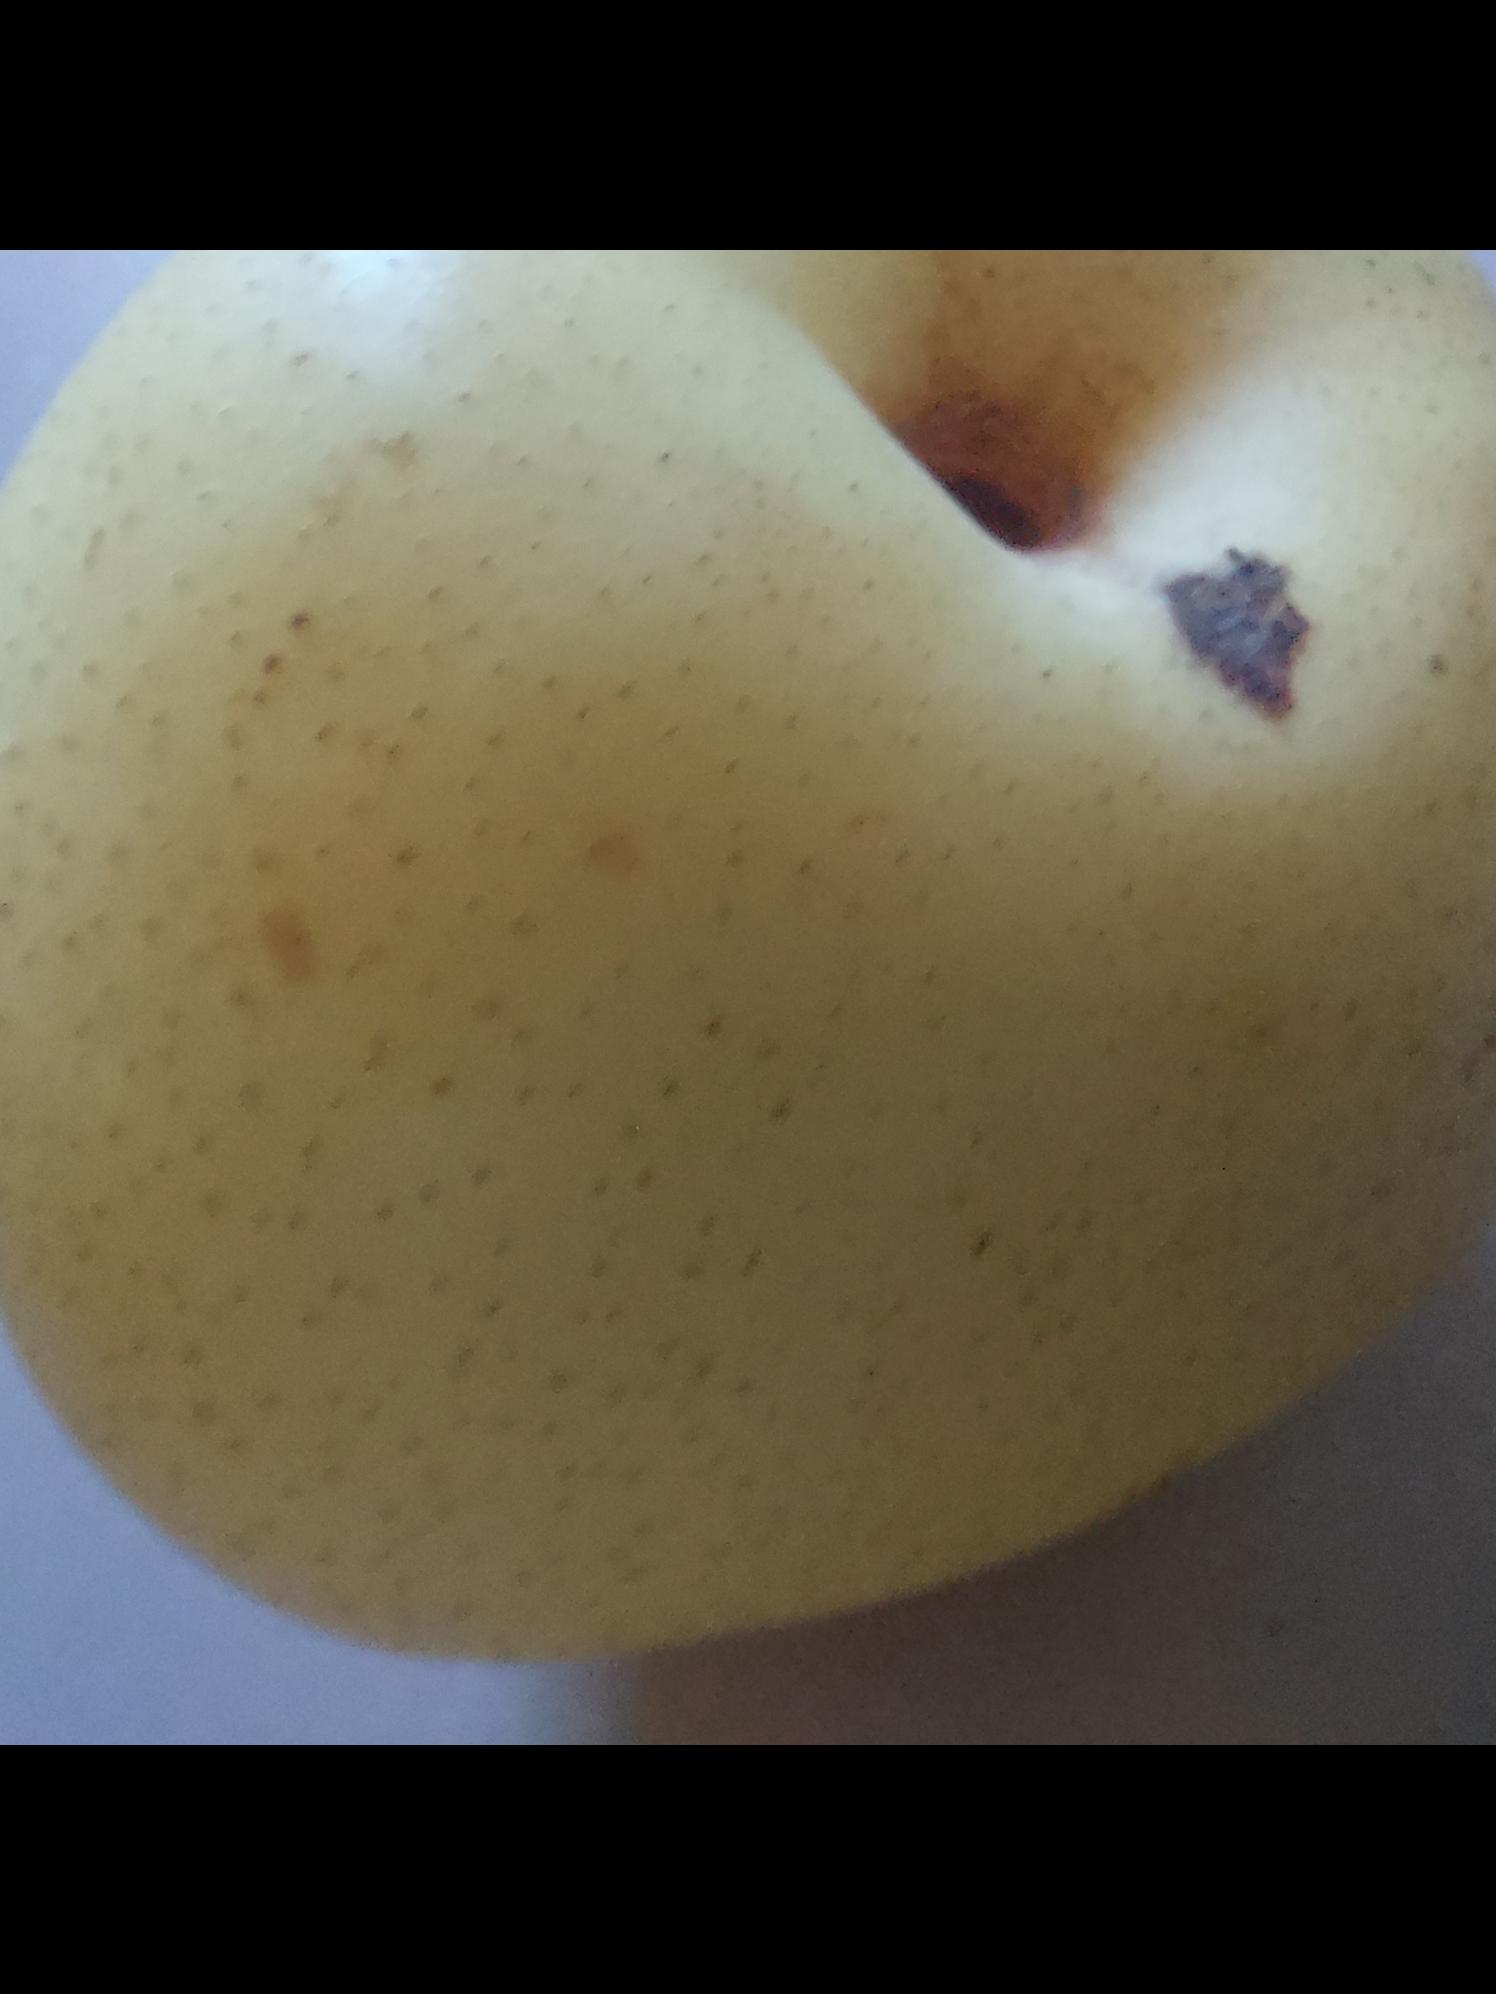Good Pear: (0, 248, 1496, 1702)
